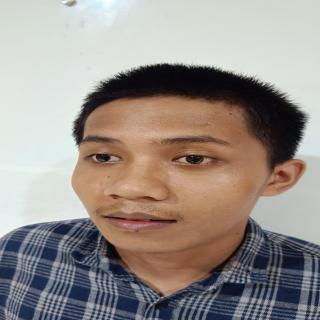Takut: (61, 87, 280, 259)
